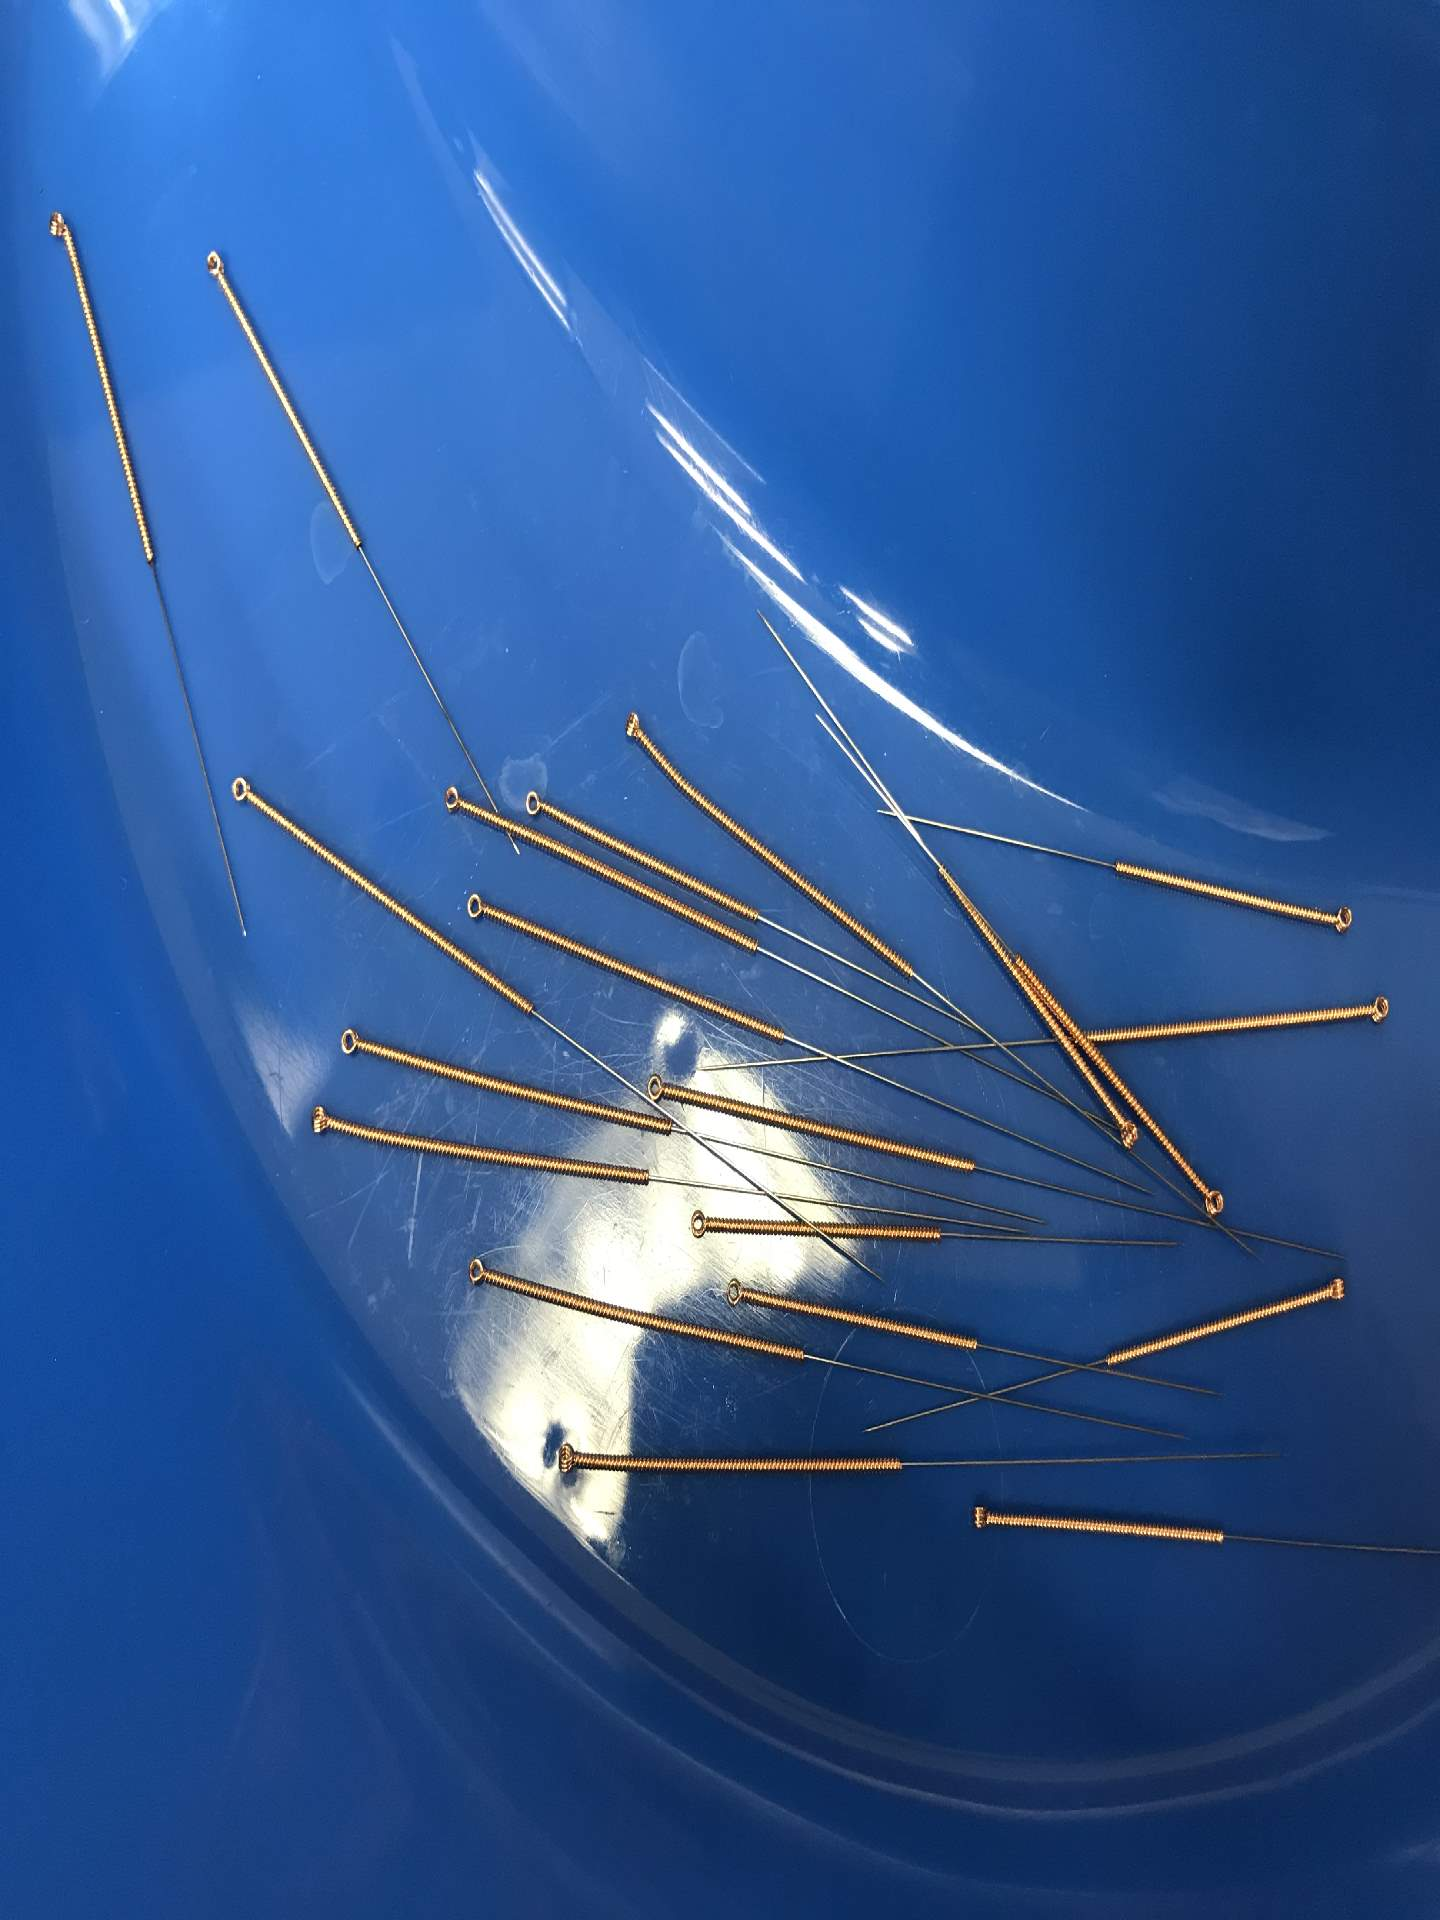needle: (1352, 984, 1396, 1033), (1317, 893, 1360, 942), (222, 766, 263, 816), (1107, 1110, 1147, 1160), (299, 1099, 343, 1143), (1192, 1175, 1231, 1223), (330, 1022, 371, 1064), (194, 240, 230, 287), (514, 783, 555, 824), (458, 1250, 498, 1293), (961, 1494, 1000, 1536), (640, 1066, 678, 1110), (436, 779, 473, 821), (457, 884, 495, 927), (1314, 1267, 1352, 1309), (552, 1438, 588, 1482), (619, 705, 653, 750), (41, 203, 74, 249), (682, 1203, 718, 1246), (718, 1274, 753, 1312)
